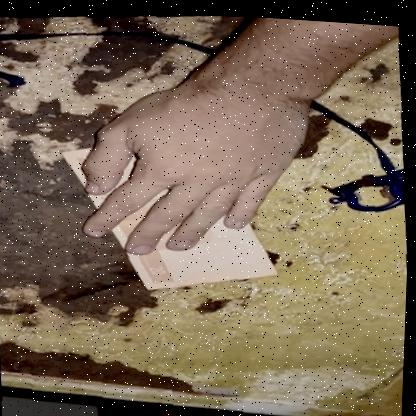twenty-back-vef: (58, 125, 284, 302)
